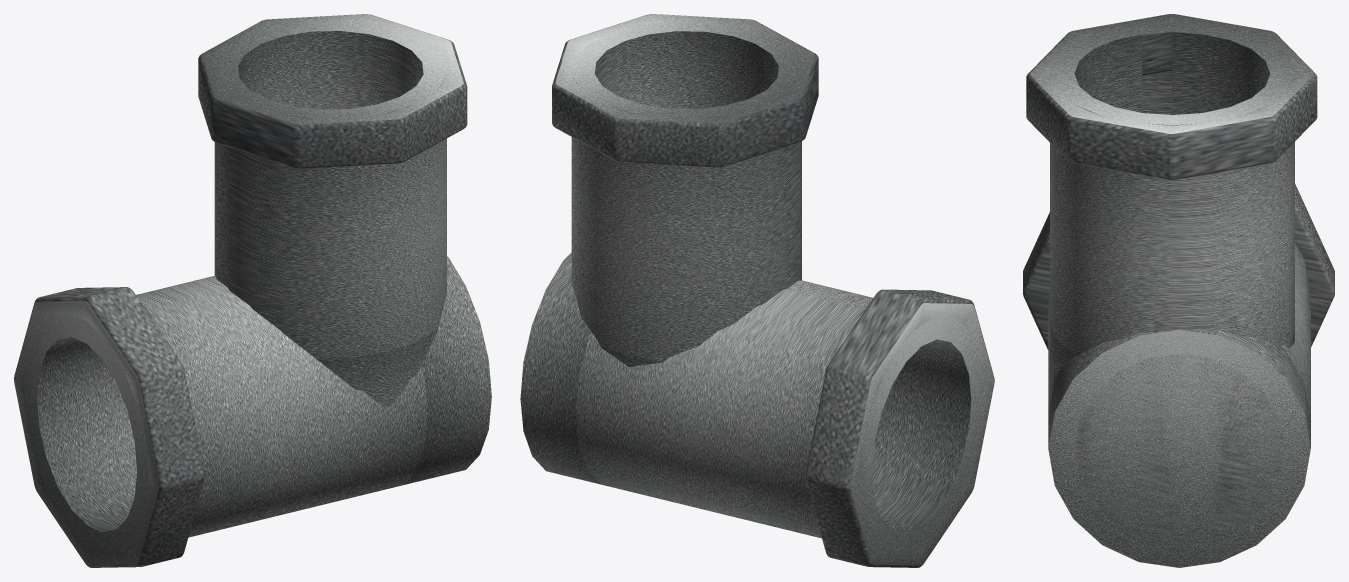
The model's file is Ｌ字パイプ.fbx.
3 renders of one model, left to right at view 1: azimuth 30°, elevation 25°; view 2: azimuth 150°, elevation 25°; view 3: azimuth 270°, elevation 25°, orthographic. The views are drawn at different scales.
Visible parts, largest first — view 1: Ｌパイプ; view 2: Ｌパイプ; view 3: Ｌパイプ.
Boxes of the visible parts, <box> form: Ｌパイプ: <box>14,14,491,567</box>; Ｌパイプ: <box>520,14,994,567</box>; Ｌパイプ: <box>1023,14,1334,567</box>.
Size of the model in its own units: 440 by 512 by 313.
Materials: 1 (1 with a texture image).
